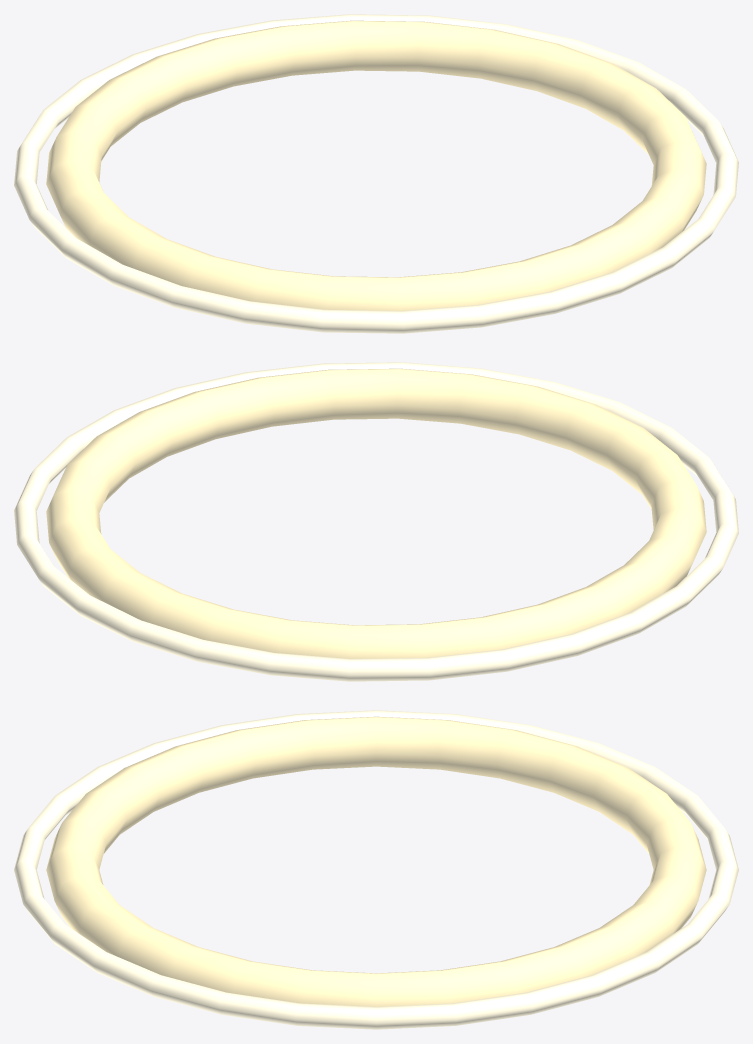
The model's file is ville_cos_halo.glb.
3 renders of one model, top to bottom at view 1: azimuth 30°, elevation 25°; view 2: azimuth 150°, elevation 25°; view 3: azimuth 270°, elevation 25°, orthographic.
Visible parts, largest first — view 1: cos_halo; view 2: cos_halo; view 3: cos_halo.
Part boxes in pixels (x1=…): cos_halo: x1=14, y1=14, x2=738, y2=333; cos_halo: x1=14, y1=362, x2=738, y2=681; cos_halo: x1=14, y1=710, x2=738, y2=1029.
Bounding box in the file's own units: 0.382 × 0.028 × 0.382.
